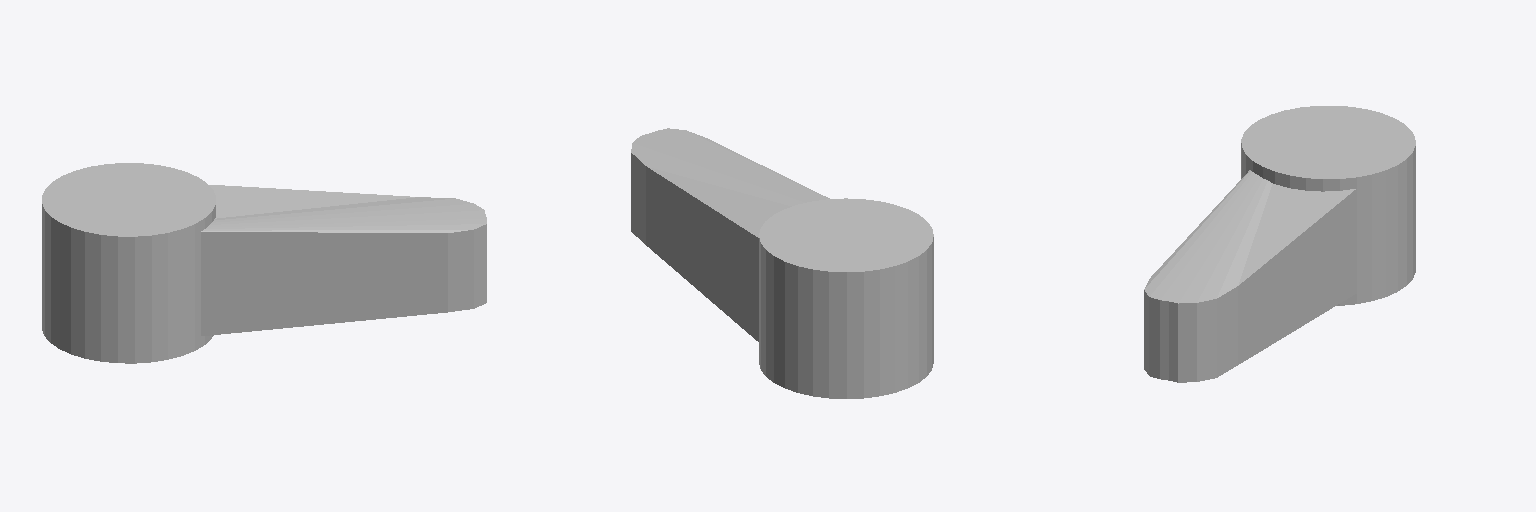
File: leftflipper.obj
The picture shows the model from 3 angles: view 1: azimuth 30°, elevation 25°; view 2: azimuth 150°, elevation 25°; view 3: azimuth 270°, elevation 25°; orthographic projection.
Visible parts, largest first — view 1: Cube.002_Cube.010; view 2: Cube.002_Cube.010; view 3: Cube.002_Cube.010.
Part boxes in pixels (left/top/right/bottom): Cube.002_Cube.010: left=42, top=163, right=486, bottom=363; Cube.002_Cube.010: left=631, top=128, right=933, bottom=398; Cube.002_Cube.010: left=1144, top=106, right=1415, bottom=382.
Bounding box in the file's own units: 3.15 × 1.07 × 2.08.